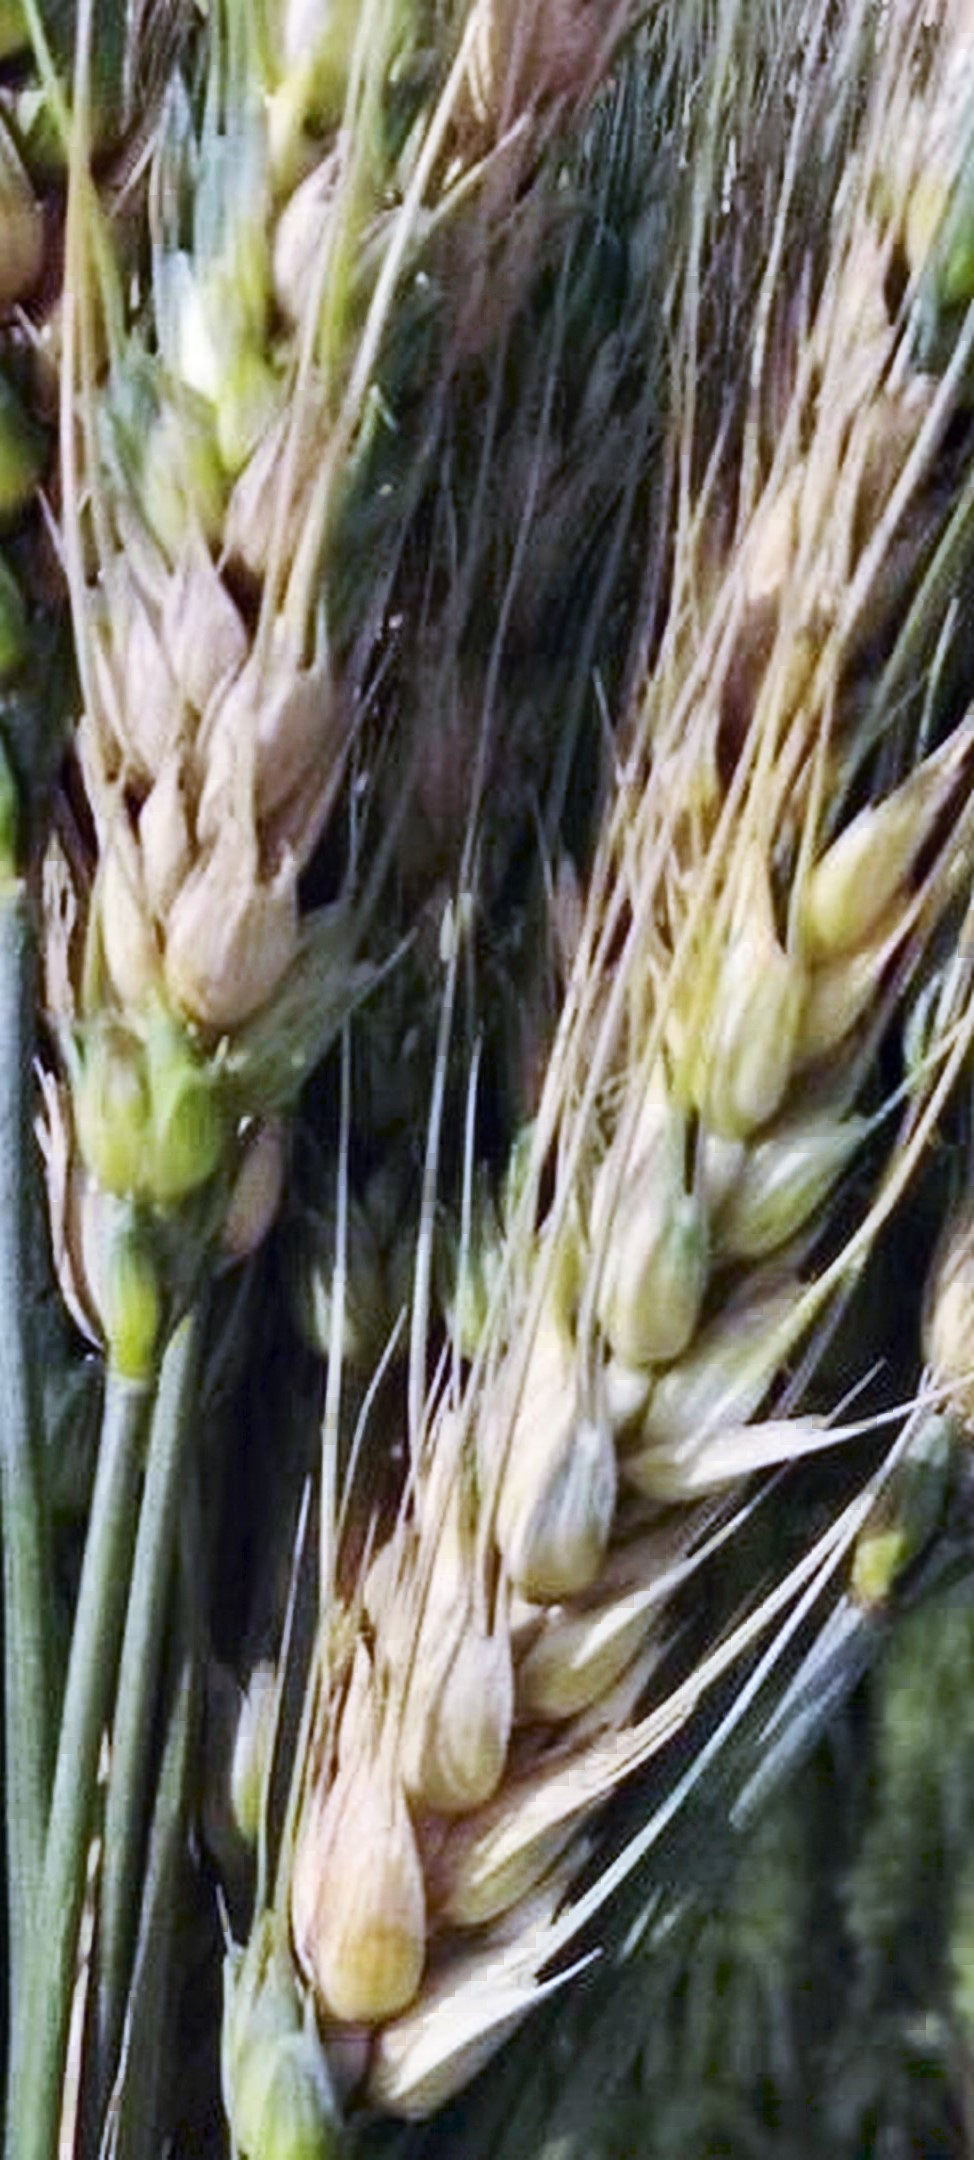Wheat scab: (47, 1, 484, 1291)
